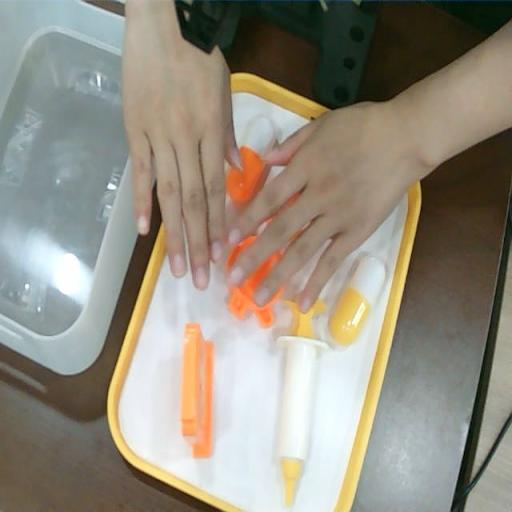hospital: (232, 96, 419, 311), (121, 41, 242, 292)
